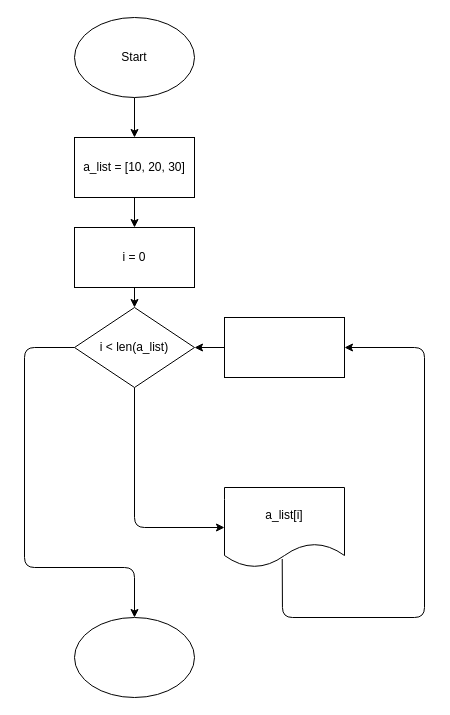
Some shapes in this 450 by 715 pixel diagram are drawn without their labels. Each missing label, with the box of its shape:
End: (74, 616, 194, 698)
i += 1: (224, 316, 344, 378)
